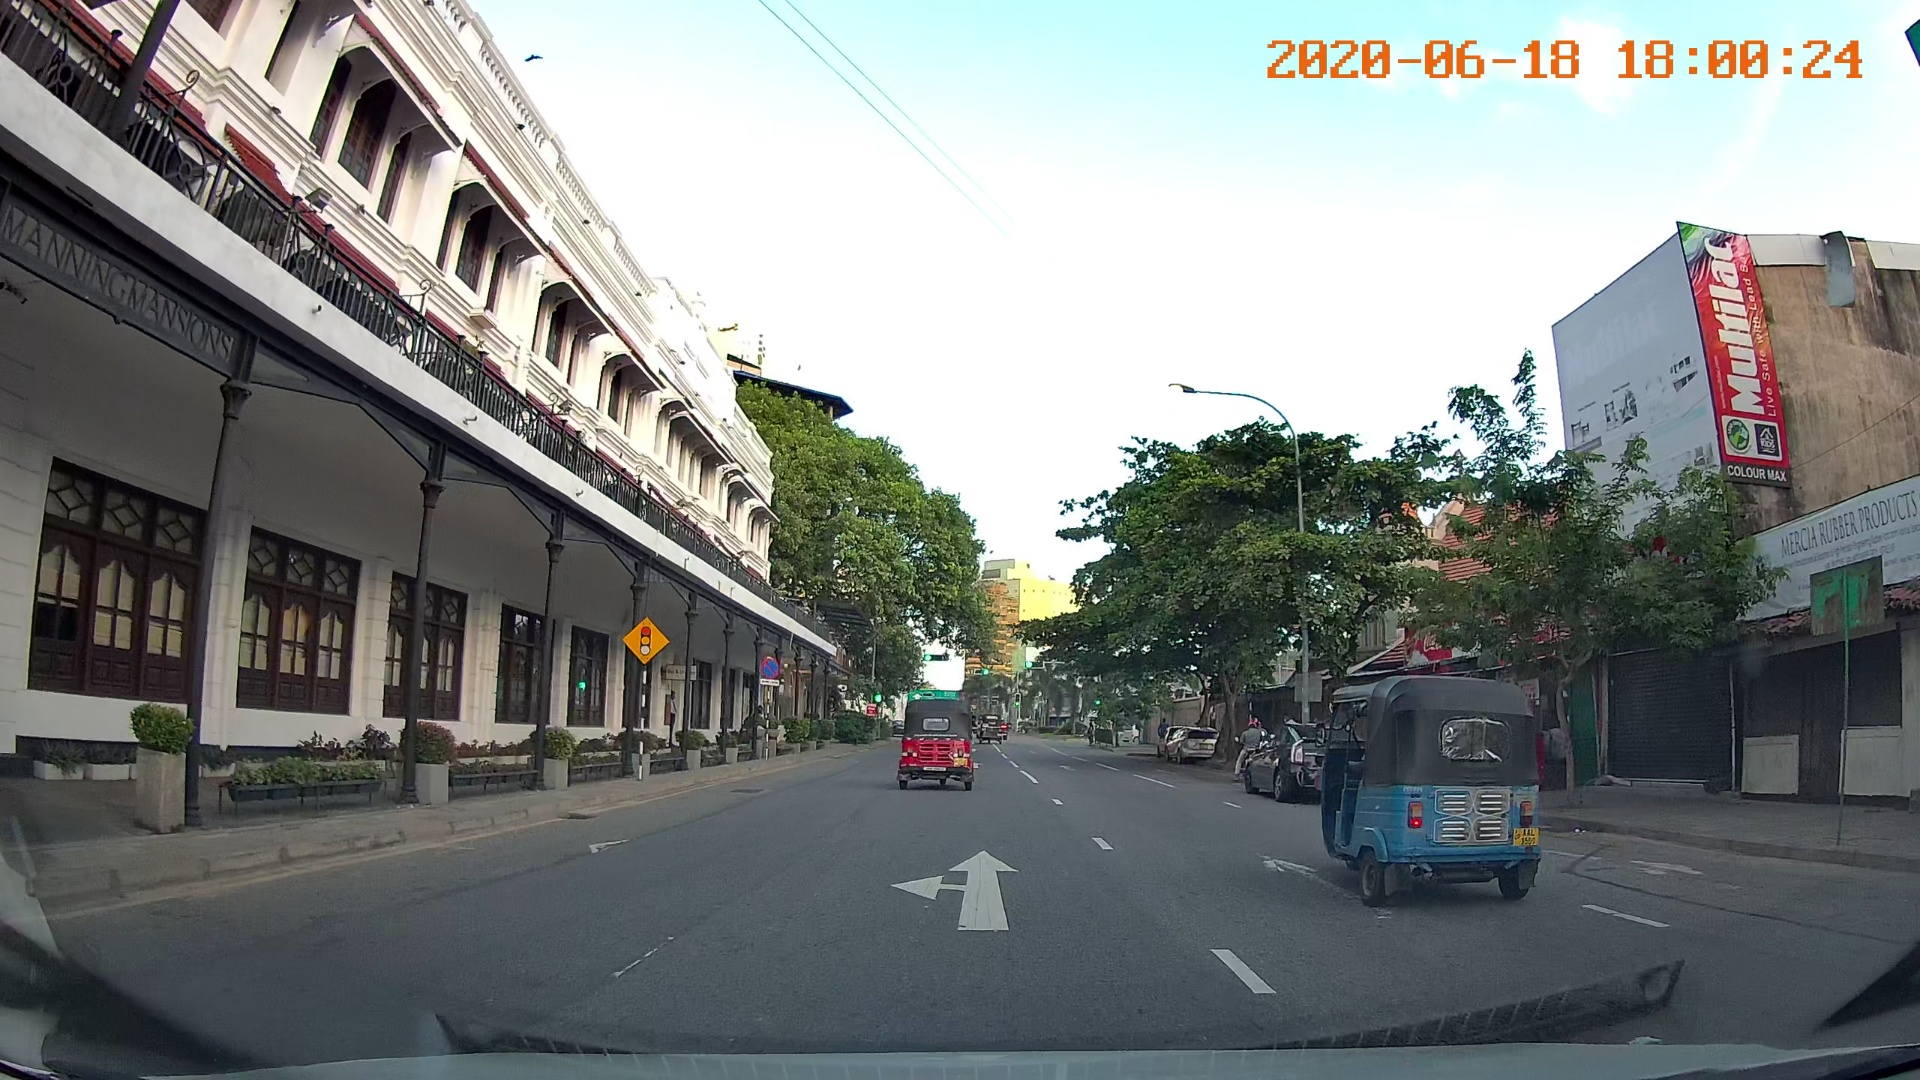arrow: (877, 835, 1060, 947)
